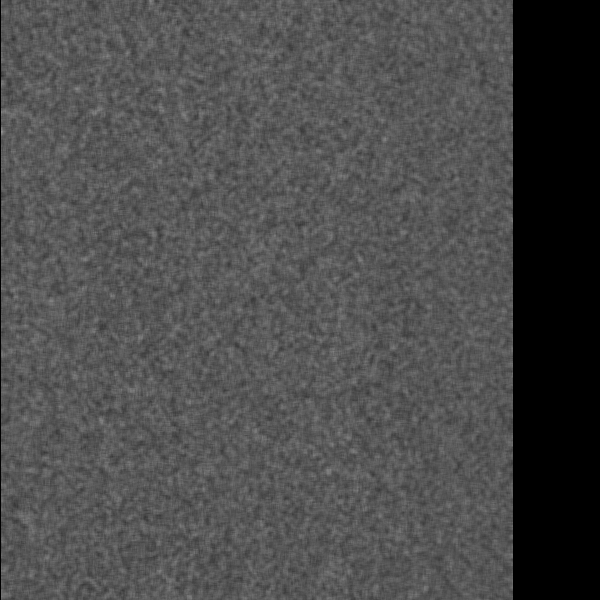spark: (462, 102, 511, 168)
